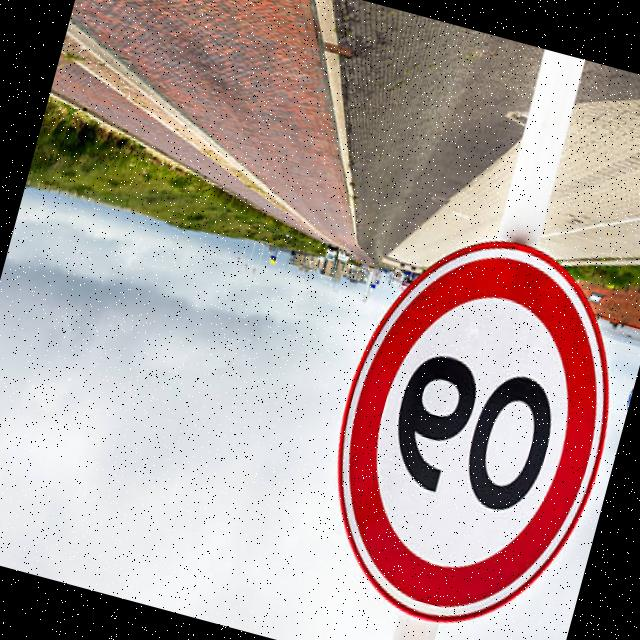speed_limit_60: (290, 214, 640, 640)
